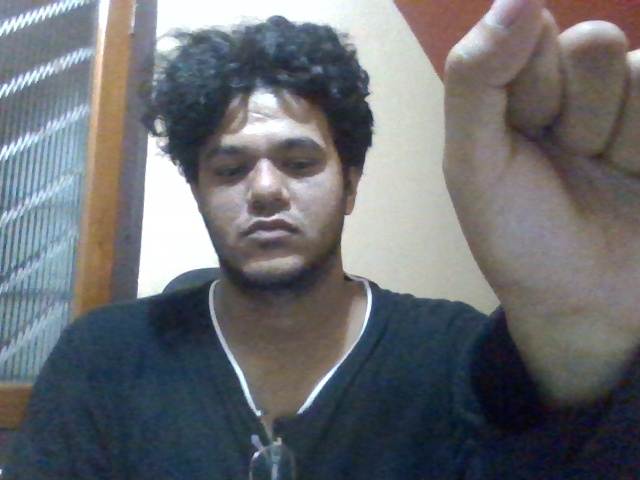no: (423, 29, 640, 315)
